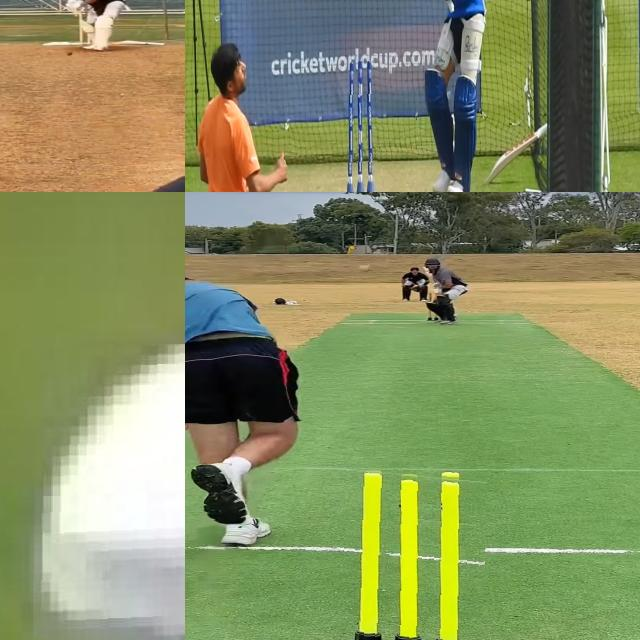Cricket ball: (33, 344, 185, 640), (356, 263, 378, 275), (65, 50, 73, 56)
Stumps: (340, 466, 486, 640), (347, 60, 379, 192)
